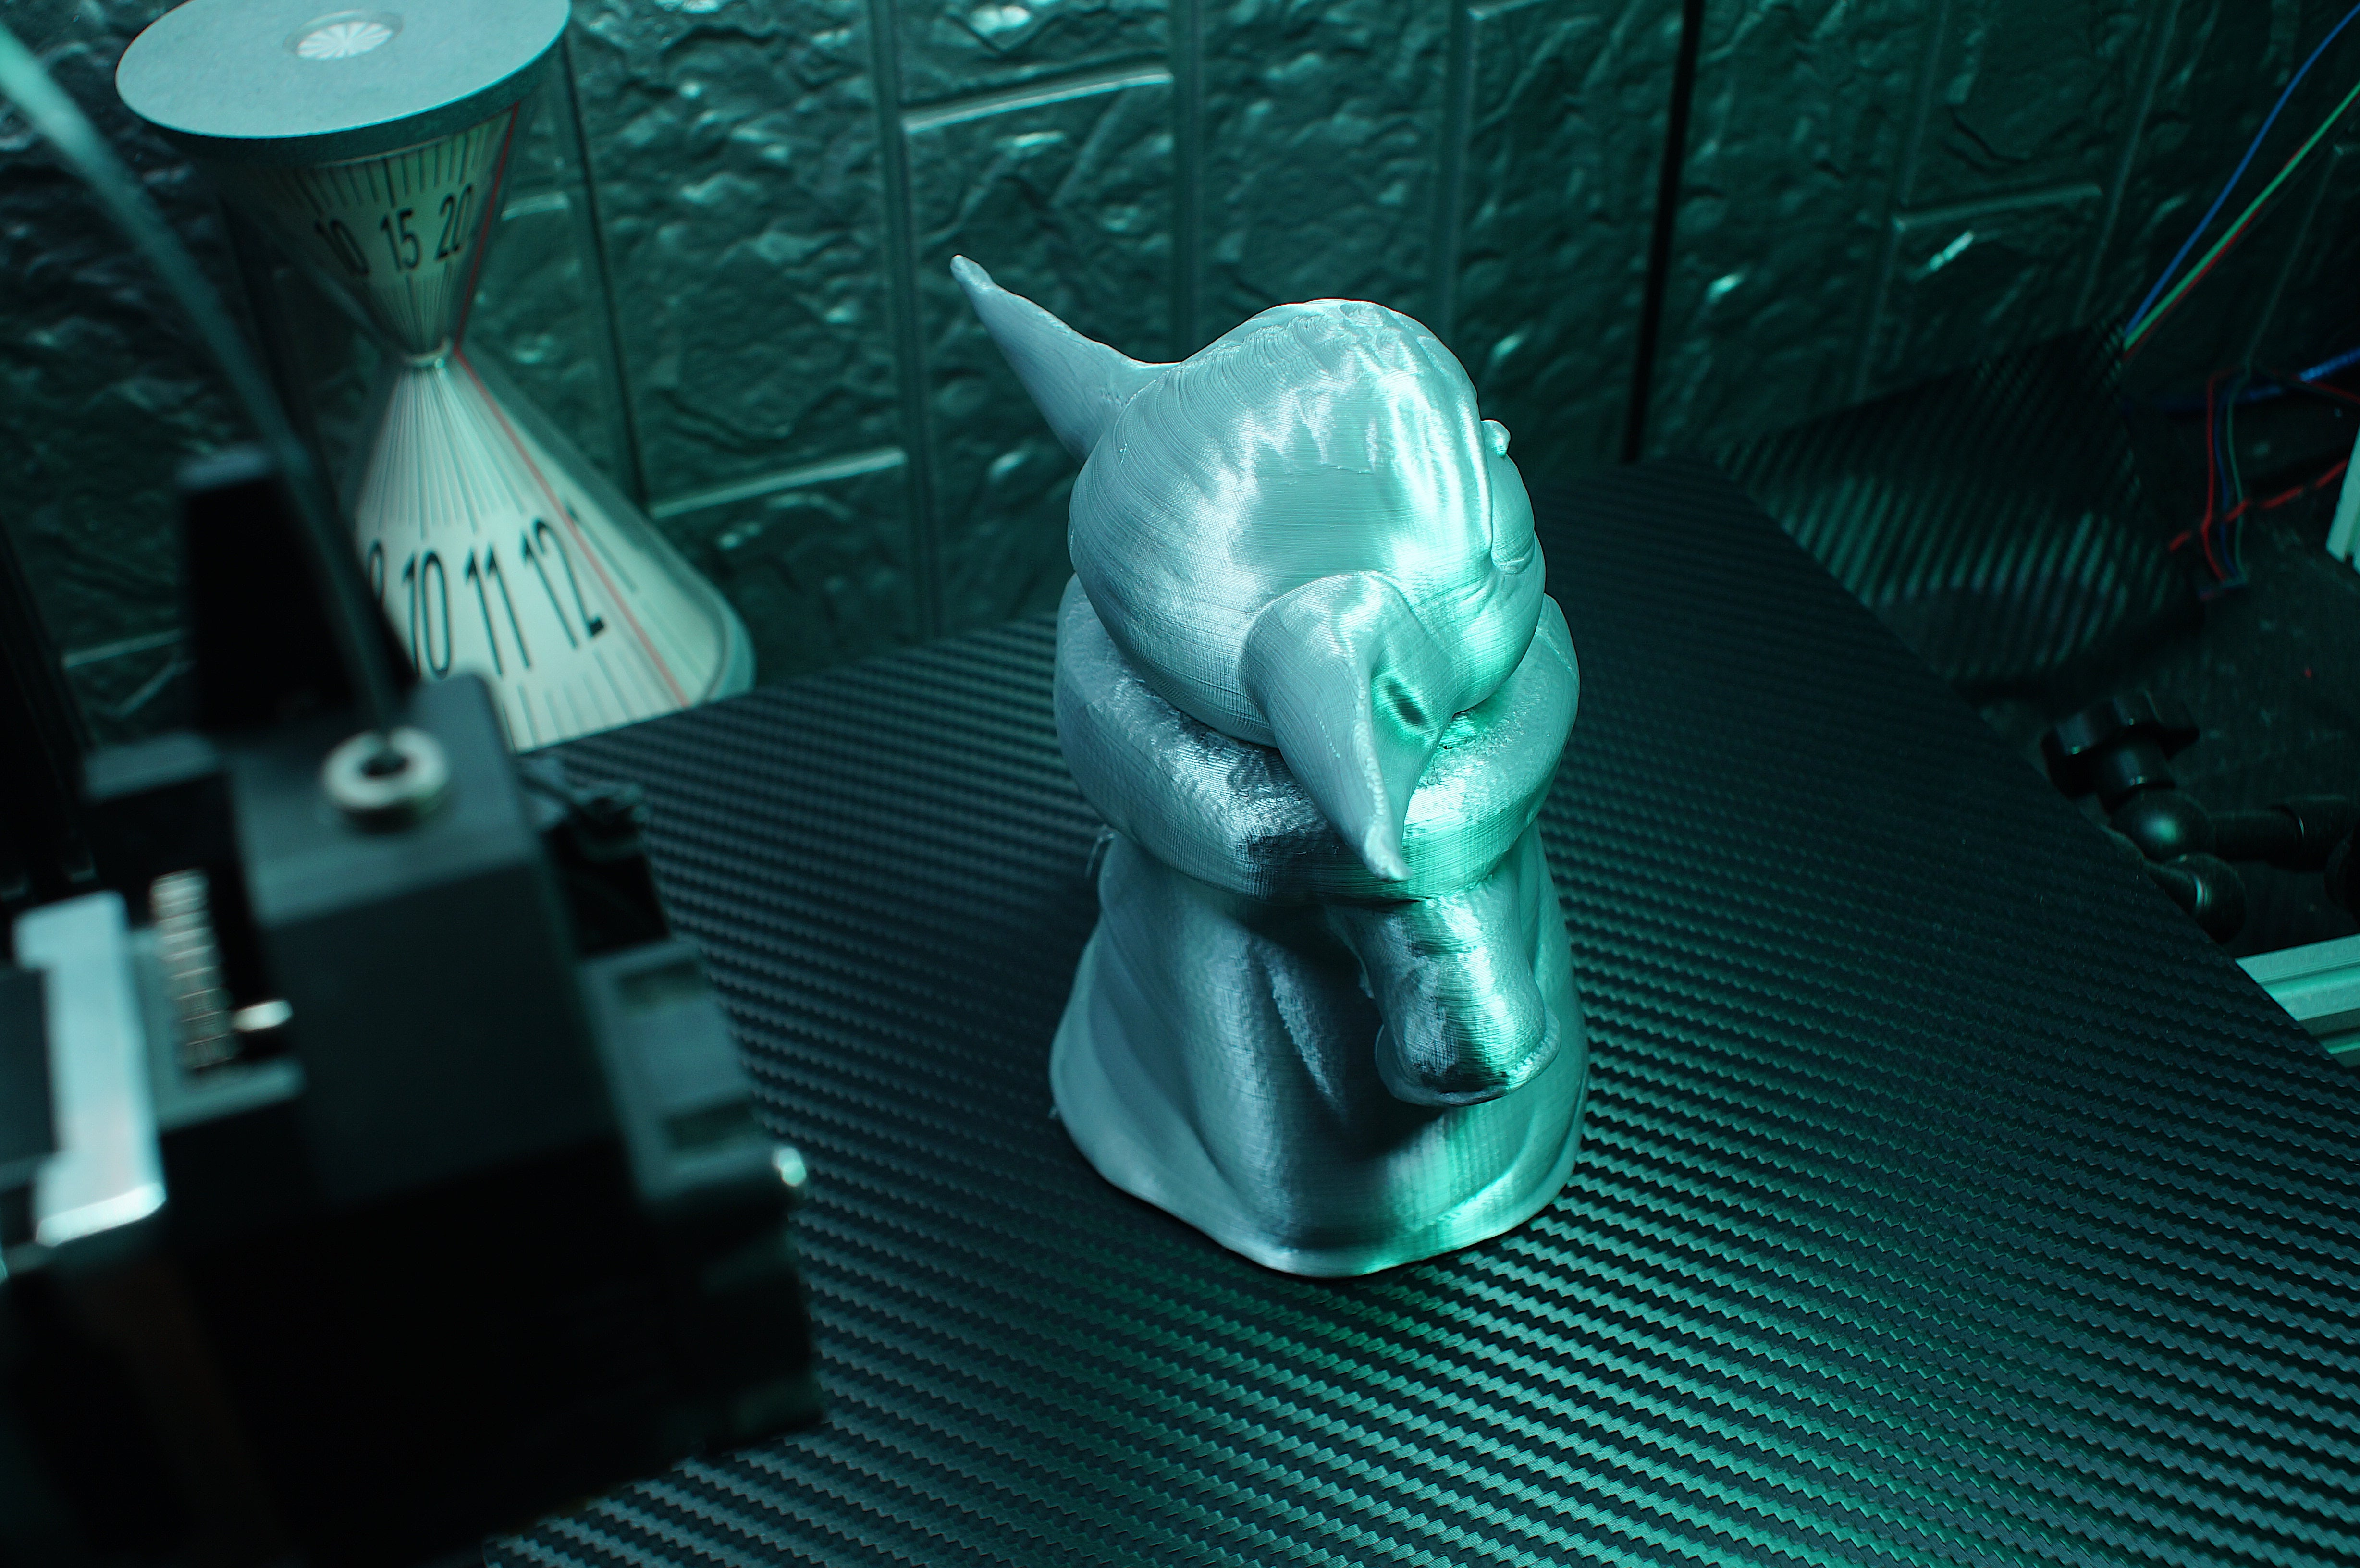Good: (889, 189, 1688, 1312)
